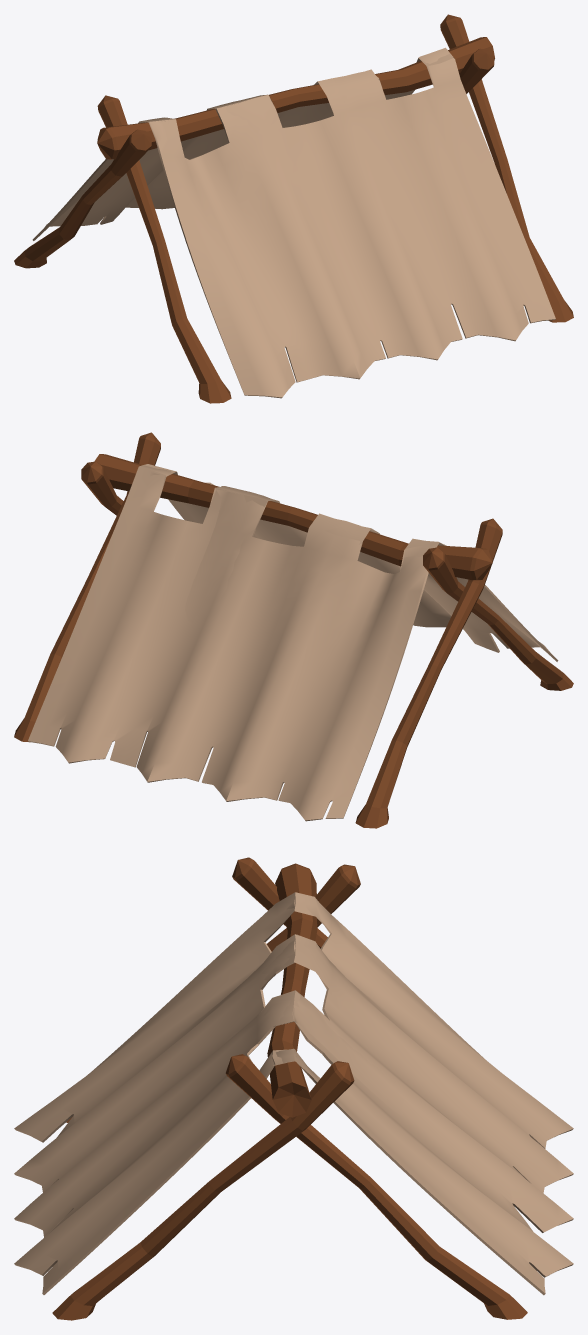
Rendered from TIENDA03.fbx.
The picture shows the model from 3 angles, top to bottom: view 1: azimuth 30°, elevation 25°; view 2: azimuth 150°, elevation 25°; view 3: azimuth 270°, elevation 25°; orthographic projection. The views are drawn at different scales.
Visible parts, largest first — view 1: Plane.003, Cylinder.008, Cylinder.005, Cylinder.006, Cylinder.009, Cylinder.007; view 2: Plane.003, Cylinder.005, Cylinder.009, Cylinder.008, Cylinder.007, Cylinder.006; view 3: Plane.003, Cylinder.006, Cylinder.007, Cylinder.005, Cylinder.009, Cylinder.008.
Boxes of the visible parts, x1,y1,x2,y2 form: Plane.003: (32, 47, 555, 398); Cylinder.008: (97, 95, 231, 403); Cylinder.005: (97, 37, 494, 159); Cylinder.006: (440, 14, 573, 322); Cylinder.009: (14, 129, 151, 268); Cylinder.007: (459, 48, 494, 93); Plane.003: (28, 464, 558, 821); Cylinder.005: (94, 454, 492, 580); Cylinder.009: (355, 518, 502, 828); Cylinder.008: (423, 547, 573, 690); Cylinder.007: (14, 432, 160, 742); Cylinder.006: (81, 461, 123, 515); Plane.003: (14, 892, 573, 1295); Cylinder.006: (52, 1061, 354, 1320); Cylinder.007: (225, 1054, 527, 1319); Cylinder.005: (267, 863, 317, 1117); Cylinder.009: (232, 857, 327, 948); Cylinder.008: (66, 864, 360, 1122).
Bounding box in the file's own units: 1509 × 796 × 1585.
